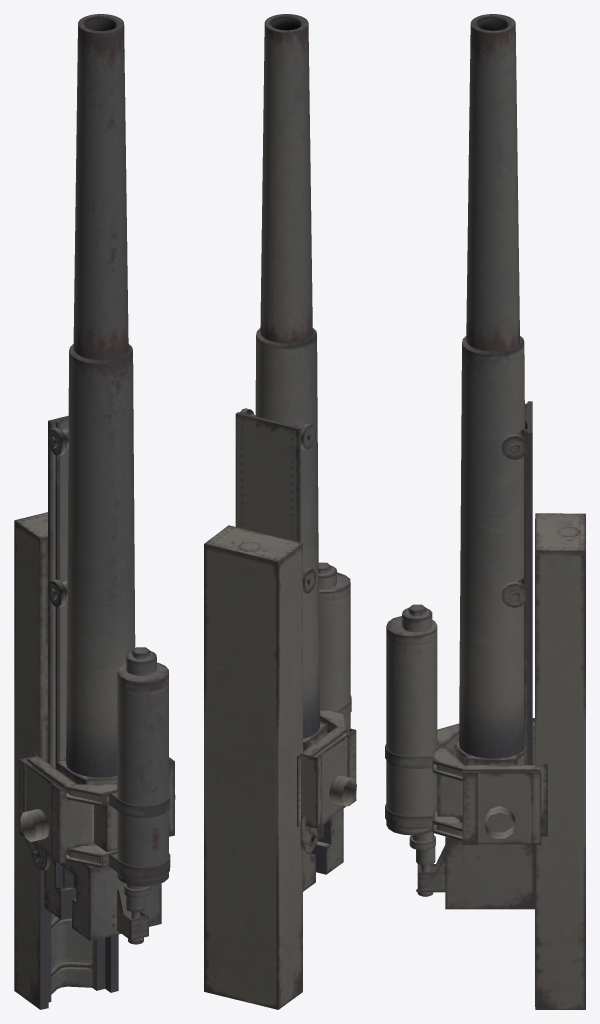
Rendered from Gun_01.glb.
3 views of the same model, side by side, from view 1: azimuth 30°, elevation 25°; view 2: azimuth 150°, elevation 25°; view 3: azimuth 270°, elevation 25° (orthographic). The views are drawn at different scales.
Visible parts, largest first — view 1: set_0_group_0; view 2: set_0_group_0; view 3: set_0_group_0.
Boxes of the visible parts, left/top/right/bottom form: set_0_group_0: left=14, top=14, right=175, bottom=1009; set_0_group_0: left=204, top=14, right=356, bottom=1009; set_0_group_0: left=385, top=14, right=585, bottom=1009.
Size of the model in its own units: 1.07 by 7.25 by 1.36.
Materials: 1 (1 with a texture image).
